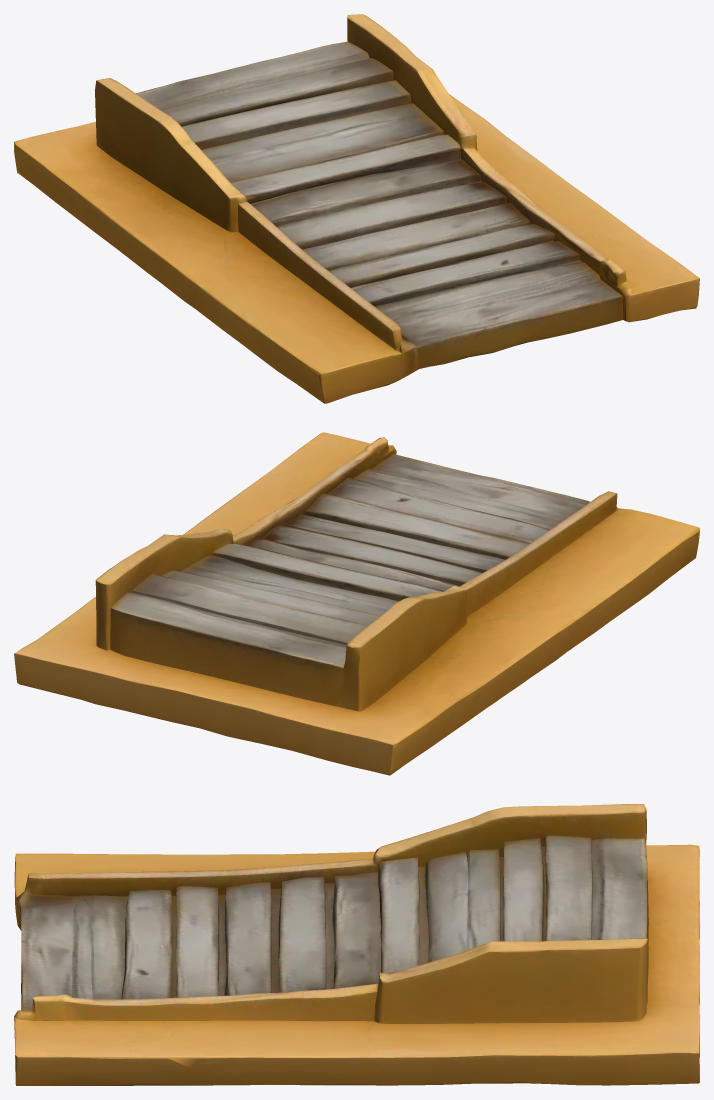
The model's file is m2RailLaunchRamp.glb.
3 renders of one model, top to bottom at view 1: azimuth 30°, elevation 25°; view 2: azimuth 150°, elevation 25°; view 3: azimuth 270°, elevation 25°, orthographic. The views are drawn at different scales.
Visible parts, largest first — view 1: model; view 2: model; view 3: model.
Boxes of the visible parts, <box> form: model: <box>14,14,699,403</box>; model: <box>14,432,699,775</box>; model: <box>14,804,699,1085</box>.
Bounding box in the file's own units: 1.35 × 0.3652 × 1.89.
1 material, 1 textured.
